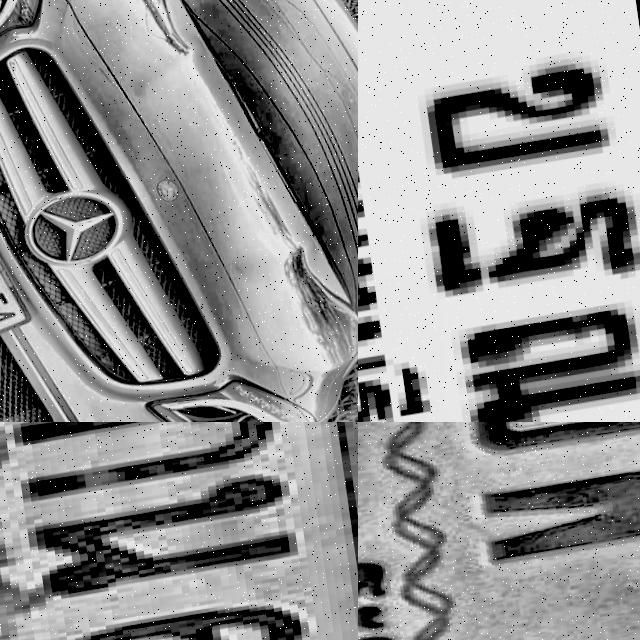license-plate: (358, 0, 640, 422), (0, 422, 358, 640), (358, 422, 640, 640), (0, 191, 37, 358)
